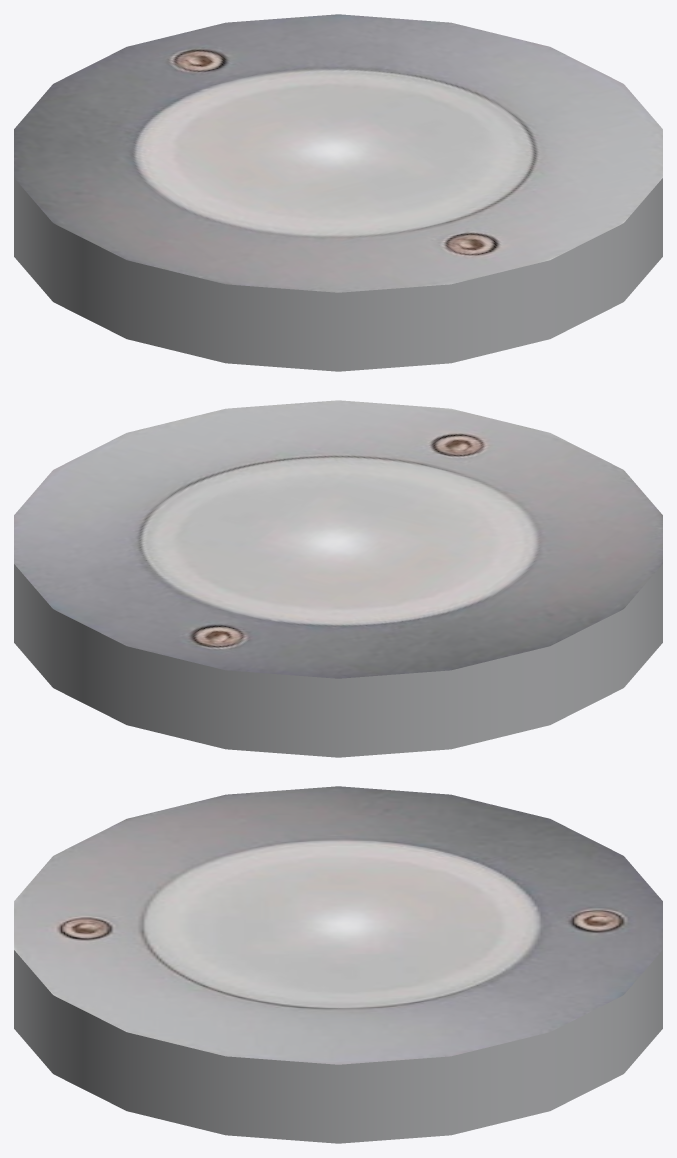
File: Stairs lamp.FBX
3 renders of one model, top to bottom at view 1: azimuth 30°, elevation 25°; view 2: azimuth 150°, elevation 25°; view 3: azimuth 270°, elevation 25°, orthographic.
Visible parts, largest first — view 1: stairs lamp; view 2: stairs lamp; view 3: stairs lamp.
Part boxes in pixels (left/top/right/bottom): stairs lamp: left=14, top=14, right=662, bottom=371; stairs lamp: left=14, top=400, right=662, bottom=757; stairs lamp: left=14, top=786, right=662, bottom=1143.
Size of the model in its own units: 51.36 by 50.58 by 6.79.
Materials: 1 (1 with a texture image).
